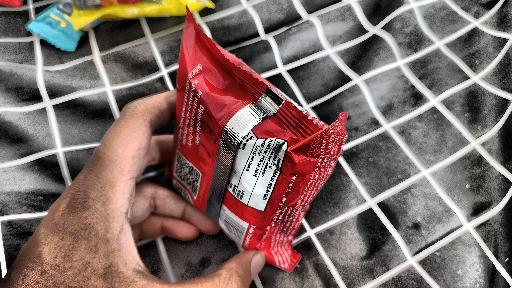momotaro: (167, 15, 335, 278)
